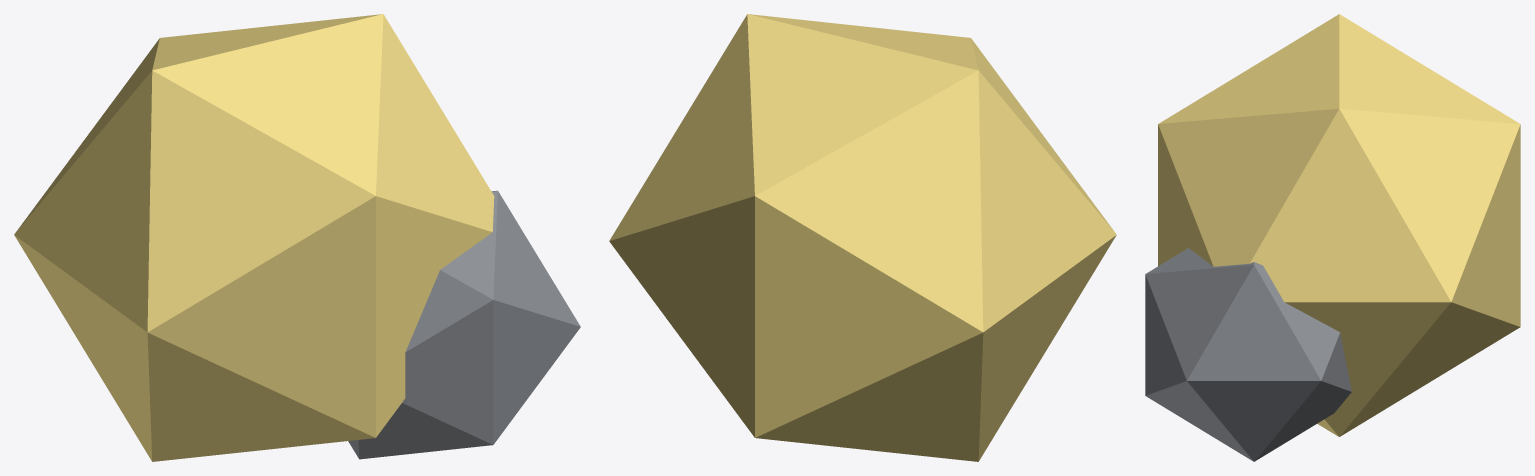
Rendered from popcorn_pebble.glb.
The picture shows the model from 3 angles, left to right: view 1: azimuth 30°, elevation 25°; view 2: azimuth 150°, elevation 25°; view 3: azimuth 270°, elevation 25°; orthographic projection. The views are drawn at different scales.
Visible parts, largest first — view 1: pebble_popcorn_yellow, chip_pebble_grey; view 2: pebble_popcorn_yellow; view 3: pebble_popcorn_yellow, chip_pebble_grey.
Boxes of the visible parts, x1=… form: pebble_popcorn_yellow: x1=14, y1=14, x2=494, y2=461; chip_pebble_grey: x1=348, y1=190, x2=580, y2=459; pebble_popcorn_yellow: x1=609, y1=14, x2=1116, y2=461; pebble_popcorn_yellow: x1=1158, y1=14, x2=1520, y2=436; chip_pebble_grey: x1=1145, y1=248, x2=1351, y2=461.
Size of the model in its own units: 0.0558 by 0.051 by 0.0528.
